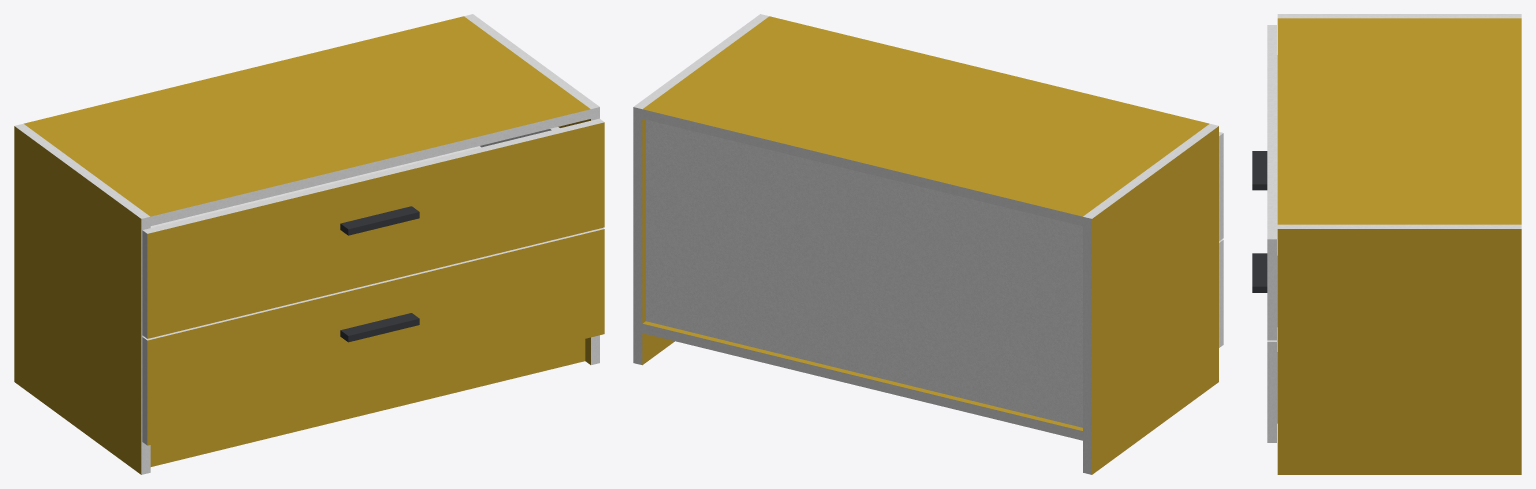
File: FET-BCH-std.glb
3 views of the same model, side by side, from view 1: azimuth 30°, elevation 25°; view 2: azimuth 150°, elevation 25°; view 3: azimuth 270°, elevation 25° (orthographic). The views are drawn at different scales.
Parts seen in each view (by area): view 1: top:pbr, d2-front:pbr, d1-front:pbr, side-l:pbr, plinth:pbr, top:sheet:eyJtIjoibWRmIiwic2lkZSI6ImVkZ2UtbG9uZyIsInNlZWQiOj, d2-front:sheet:eyJtIjoibWRmIiwic2lkZSI6ImVkZ2UtbG9uZyIsInNlZ, pull, side-l:sheet:eyJtIjoibWRmIiwic2lkZSI6ImVkZ2UtZW5kIiwic2VlZCI, side-r:sheet:eyJtIjoibWRmIiwic2lkZSI6ImVkZ2UtZW5kIiwic2VlZCI, d1-front:sheet:eyJtIjoibWRmIiwic2lkZSI6ImVkZ2UtbG9uZyIsInNlZ, side-l:sheet:eyJtIjoibWRmIiwic2lkZSI6ImVkZ2UtbG9uZyIsInNlZWQ (+3 smaller); view 2: back:sheet:eyJtIjoibWRmIiwic2lkZSI6ImZhY2UiLCJzZWVkIjo0LCJ0a, top:pbr, side-l:pbr, bottom:sheet:eyJtIjoibWRmIiwic2lkZSI6ImVkZ2UtbG9uZyIsInNlZWQ, top:sheet:eyJtIjoibWRmIiwic2lkZSI6ImVkZ2UtbG9uZyIsInNlZWQiOj, side-r:sheet:eyJtIjoibWRmIiwic2lkZSI6ImVkZ2UtbG9uZyIsInNlZWQ, side-l:sheet:eyJtIjoibWRmIiwic2lkZSI6ImVkZ2UtbG9uZyIsInNlZWQ, bottom:pbr, side-r:pbr, side-r:sheet:eyJtIjoibWRmIiwic2lkZSI6ImVkZ2UtZW5kIiwic2VlZCI, side-l:sheet:eyJtIjoibWRmIiwic2lkZSI6ImVkZ2UtZW5kIiwic2VlZCI; view 3: side-r:pbr, top:pbr, d2-front:sheet:eyJtIjoibWRmIiwic2lkZSI6ImVkZ2UtbG9uZyIsInNlZ, pull, side-l:sheet:eyJtIjoibWRmIiwic2lkZSI6ImVkZ2UtZW5kIiwic2VlZCI, side-r:sheet:eyJtIjoibWRmIiwic2lkZSI6ImVkZ2UtZW5kIiwic2VlZCI, d2-front:sheet:eyJtIjoibWRmIiwic2lkZSI6ImVkZ2UtZW5kIiwic2VlZ, d1-front:sheet:eyJtIjoibWRmIiwic2lkZSI6ImVkZ2UtZW5kIiwic2VlZ.
Part boxes in pixels (<box>): top:pbr: <box>24,16,590,216</box>; d2-front:pbr: <box>147,122,604,338</box>; d1-front:pbr: <box>147,229,604,445</box>; side-l:pbr: <box>14,126,141,474</box>; plinth:pbr: <box>150,339,585,466</box>; top:sheet:eyJtIjoibWRmIiwic2lkZSI6ImVkZ2UtbG9uZyIsInNlZWQiOj: <box>150,109,590,225</box>; d2-front:sheet:eyJtIjoibWRmIiwic2lkZSI6ImVkZ2UtbG9uZyIsInNlZ: <box>142,118,603,233</box>; pull: <box>340,206,419,342</box>; side-l:sheet:eyJtIjoibWRmIiwic2lkZSI6ImVkZ2UtZW5kIiwic2VlZCI: <box>15,123,149,218</box>; side-r:sheet:eyJtIjoibWRmIiwic2lkZSI6ImVkZ2UtZW5kIiwic2VlZCI: <box>464,14,599,108</box>; d1-front:sheet:eyJtIjoibWRmIiwic2lkZSI6ImVkZ2UtbG9uZyIsInNlZ: <box>143,228,603,340</box>; side-l:sheet:eyJtIjoibWRmIiwic2lkZSI6ImVkZ2UtbG9uZyIsInNlZWQ: <box>141,216,150,474</box>; back:sheet:eyJtIjoibWRmIiwic2lkZSI6ImZhY2UiLCJzZWVkIjo0LCJ0a: <box>646,120,1082,427</box>; top:pbr: <box>643,16,1209,216</box>; side-l:pbr: <box>1092,126,1218,474</box>; bottom:sheet:eyJtIjoibWRmIiwic2lkZSI6ImVkZ2UtbG9uZyIsInNlZWQ: <box>642,323,1082,440</box>; top:sheet:eyJtIjoibWRmIiwic2lkZSI6ImVkZ2UtbG9uZyIsInNlZWQiOj: <box>642,109,1082,226</box>; side-r:sheet:eyJtIjoibWRmIiwic2lkZSI6ImVkZ2UtbG9uZyIsInNlZWQ: <box>633,107,642,364</box>; side-l:sheet:eyJtIjoibWRmIiwic2lkZSI6ImVkZ2UtbG9uZyIsInNlZWQ: <box>1083,217,1091,474</box>; bottom:pbr: <box>643,321,1082,430</box>; side-r:pbr: <box>642,119,674,364</box>; side-r:sheet:eyJtIjoibWRmIiwic2lkZSI6ImVkZ2UtZW5kIiwic2VlZCI: <box>634,14,769,109</box>; side-l:sheet:eyJtIjoibWRmIiwic2lkZSI6ImVkZ2UtZW5kIiwic2VlZCI: <box>1083,124,1218,218</box>; side-r:pbr: <box>1277,229,1521,474</box>; top:pbr: <box>1277,18,1521,224</box>; d2-front:sheet:eyJtIjoibWRmIiwic2lkZSI6ImVkZ2UtbG9uZyIsInNlZ: <box>1267,25,1276,239</box>; pull: <box>1252,151,1267,292</box>; side-l:sheet:eyJtIjoibWRmIiwic2lkZSI6ImVkZ2UtZW5kIiwic2VlZCI: <box>1277,14,1521,18</box>; side-r:sheet:eyJtIjoibWRmIiwic2lkZSI6ImVkZ2UtZW5kIiwic2VlZCI: <box>1277,224,1521,228</box>; d2-front:sheet:eyJtIjoibWRmIiwic2lkZSI6ImVkZ2UtZW5kIiwic2VlZ: <box>1267,239,1276,340</box>; d1-front:sheet:eyJtIjoibWRmIiwic2lkZSI6ImVkZ2UtZW5kIiwic2VlZ: <box>1267,342,1276,442</box>.
Bounding box in the file's own units: 0.9 × 0.48 × 0.4769.
Materials: 55 (47 with a texture image).
